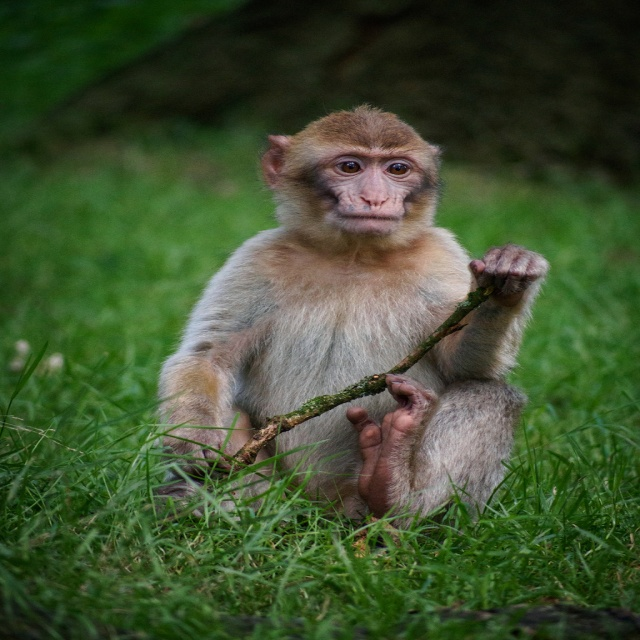Monkey: (161, 101, 551, 531)
